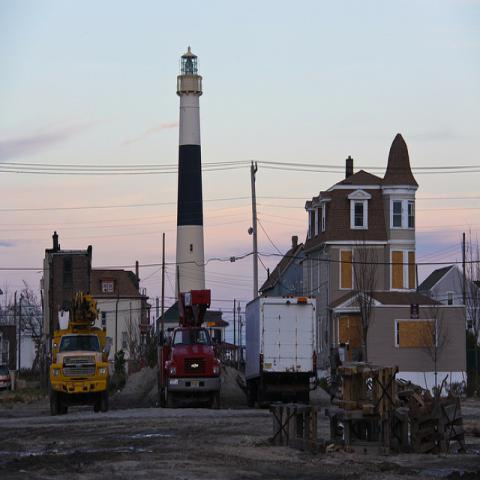truck: (244, 296, 318, 408), (157, 288, 221, 409), (50, 292, 110, 416)
